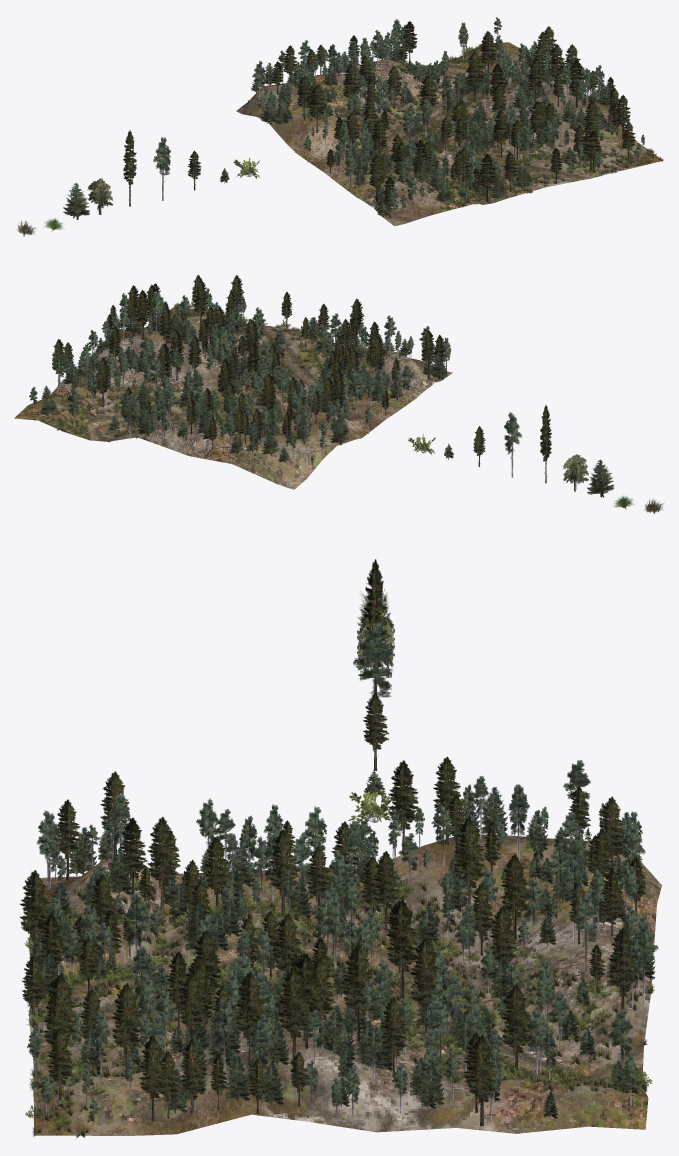
File: a-forest-3-with-a-road-at-night-for-game.glb
3 views of the same model, one above another, from view 1: azimuth 30°, elevation 25°; view 2: azimuth 150°, elevation 25°; view 3: azimuth 270°, elevation 25° (orthographic). The views are drawn at different scales.
Parts seen in each view (by area): view 1: 05ade0e713892be558511d706fa6c547-no-bg-preview (carve.p_dabc; view 2: 05ade0e713892be558511d706fa6c547-no-bg-preview (carve.p_dabc; view 3: 05ade0e713892be558511d706fa6c547-no-bg-preview (carve.p_dabc.
Part boxes in pixels (<box>): 05ade0e713892be558511d706fa6c547-no-bg-preview (carve.p_dabc: <box>17,17,663,236</box>; 05ade0e713892be558511d706fa6c547-no-bg-preview (carve.p_dabc: <box>14,275,663,513</box>; 05ade0e713892be558511d706fa6c547-no-bg-preview (carve.p_dabc: <box>19,559,661,1137</box>.
Size of the model in its own units: 19.24 by 2.85 by 9.74.
Materials: 3 (3 with a texture image).
